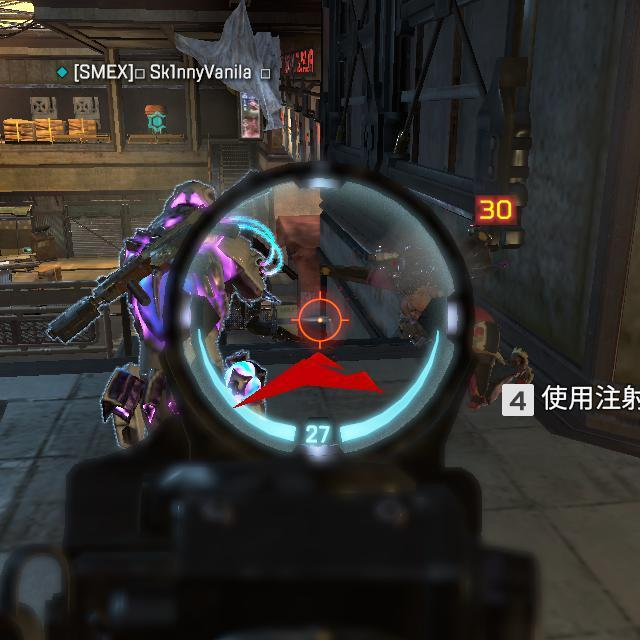avatar: (102, 177, 267, 453)
